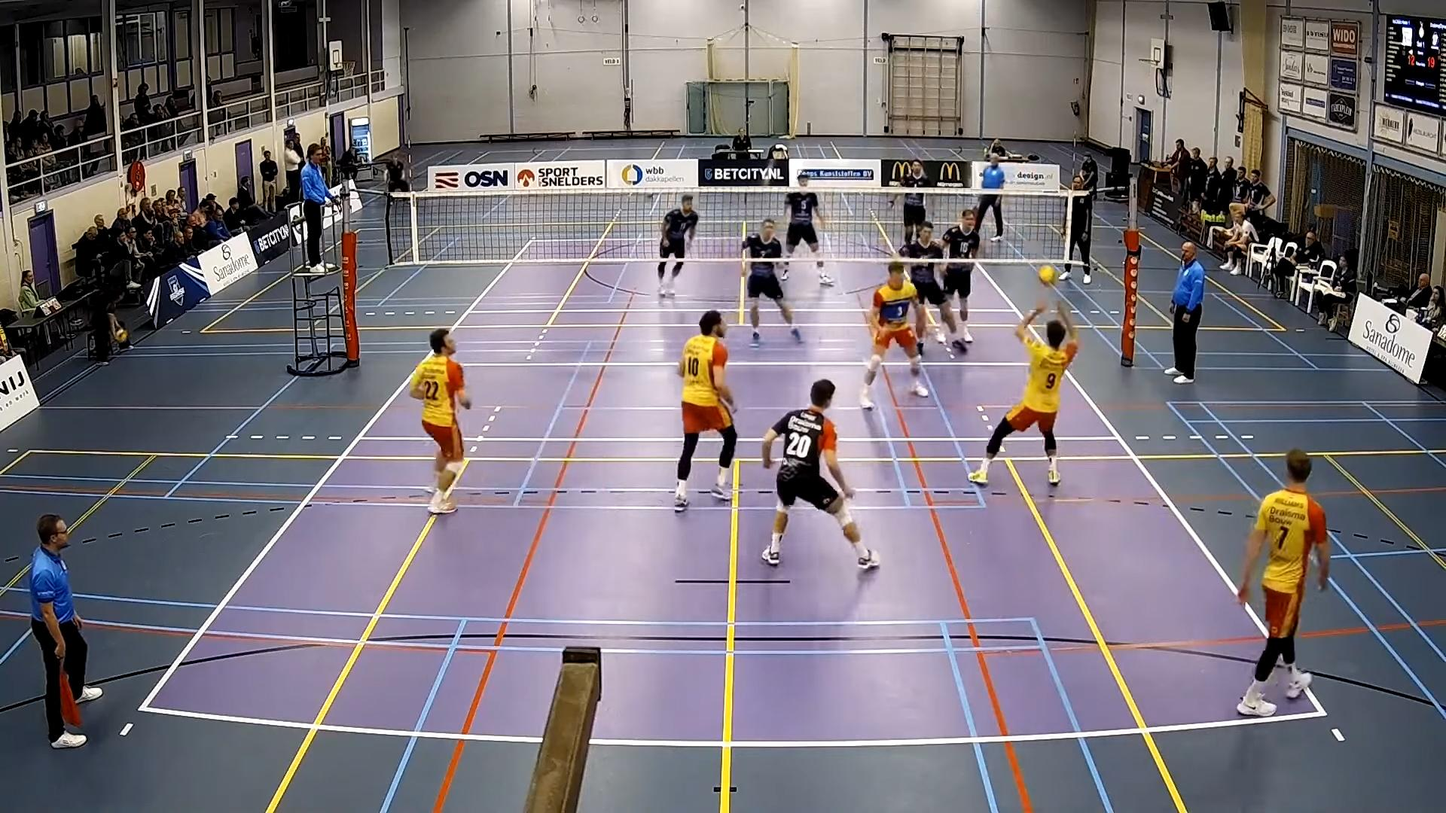difesa: (971, 295, 1076, 485)
